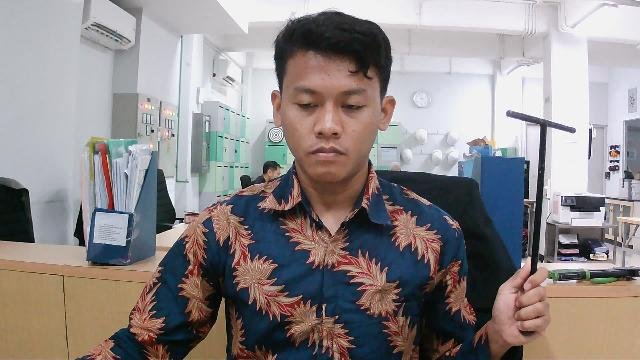kunci_t: (493, 99, 580, 337)
